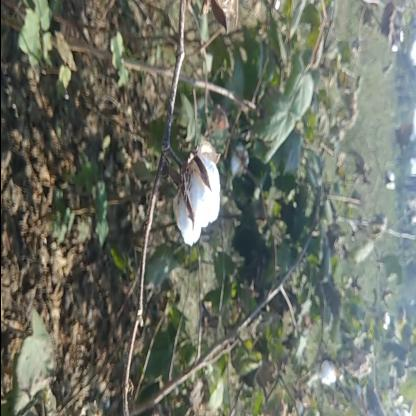cotton_ready: (150, 133, 222, 258)
